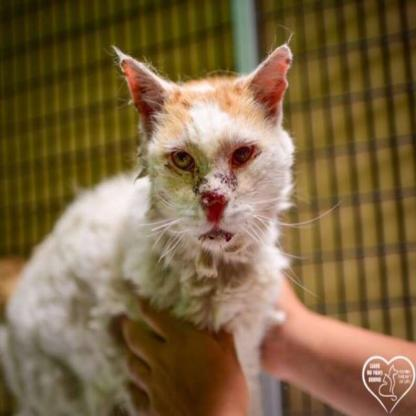cat: (2, 43, 306, 416)
injured: (196, 166, 234, 230)
